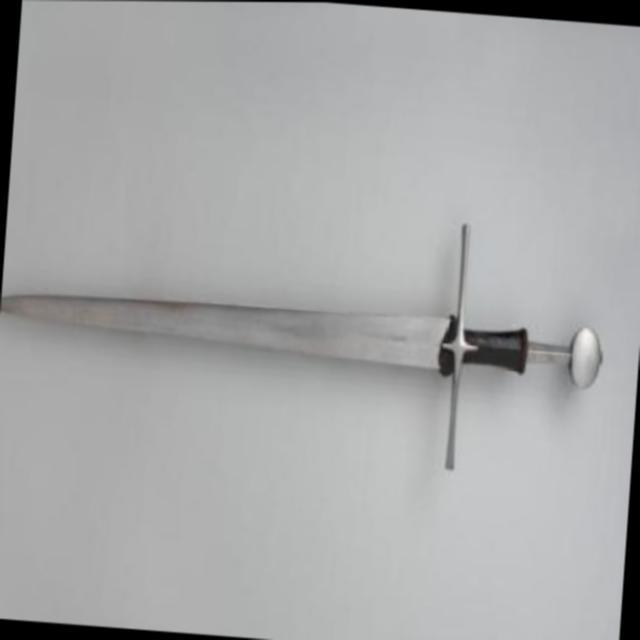weapon: (0, 185, 609, 478)
